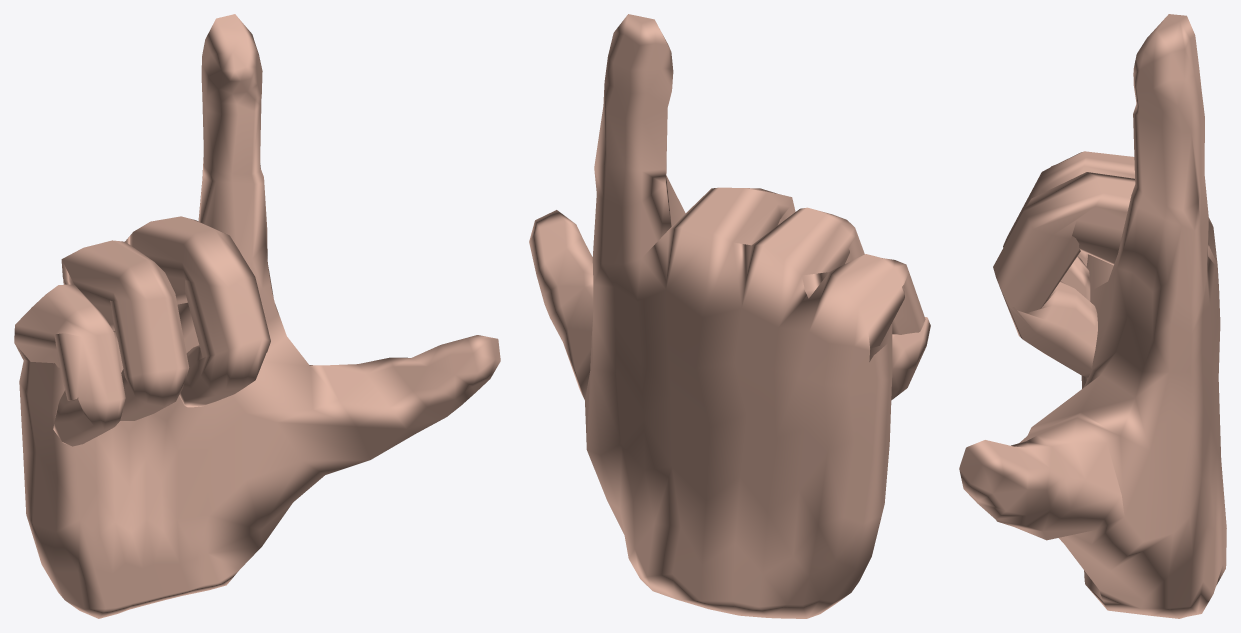
File: MAO_L.obj
3 renders of one model, left to right at view 1: azimuth 30°, elevation 25°; view 2: azimuth 150°, elevation 25°; view 3: azimuth 270°, elevation 25°, orthographic. The views are drawn at different scales.
Visible parts, largest first — view 1: mao_dir:mao_dir; view 2: mao_dir:mao_dir; view 3: mao_dir:mao_dir.
Part boxes in pixels (left/top/right/bottom): mao_dir:mao_dir: left=14, top=14, right=500, bottom=618; mao_dir:mao_dir: left=529, top=14, right=930, bottom=618; mao_dir:mao_dir: left=959, top=14, right=1226, bottom=618.
Size of the model in its own units: 178 by 227 by 89.88.
